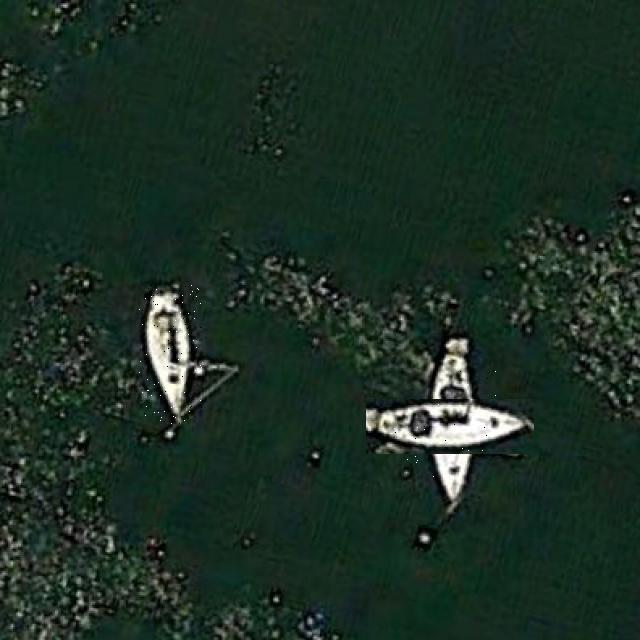boat: (394, 370, 506, 482), (139, 285, 202, 424)
